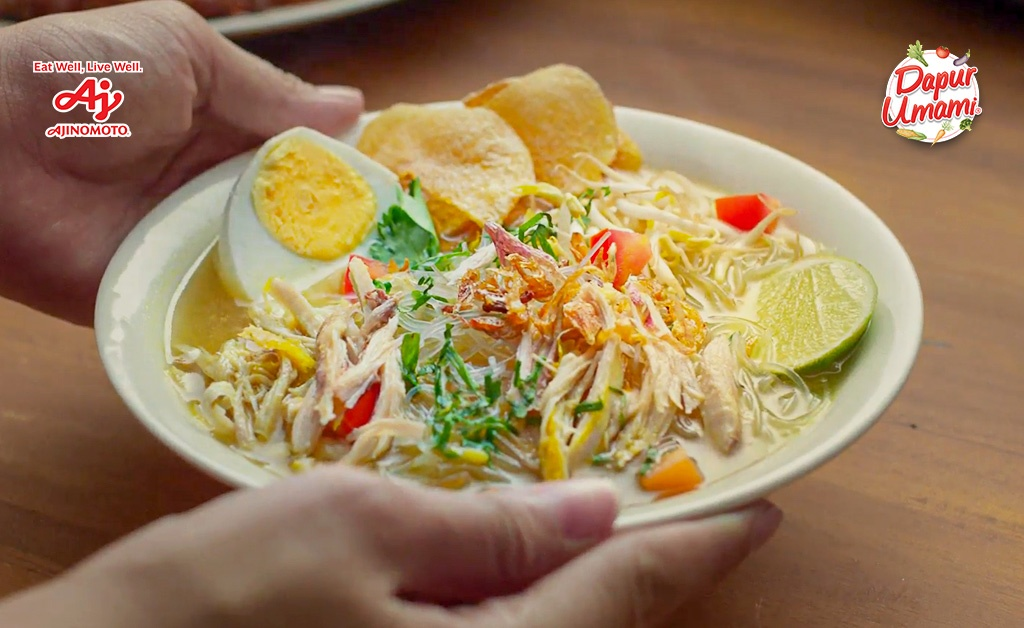soto: (51, 50, 991, 538)
